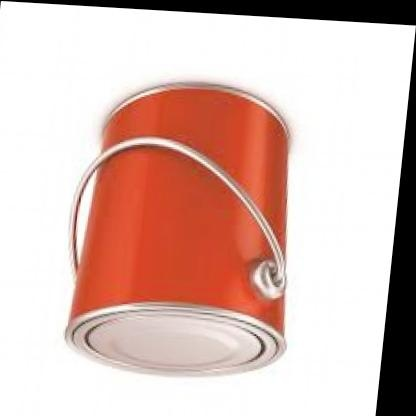trash: (66, 84, 287, 374)
